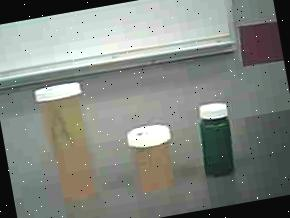Bottle A: (32, 79, 102, 203)
Bottle B: (126, 121, 182, 193)
Bottle C: (193, 99, 244, 178)
